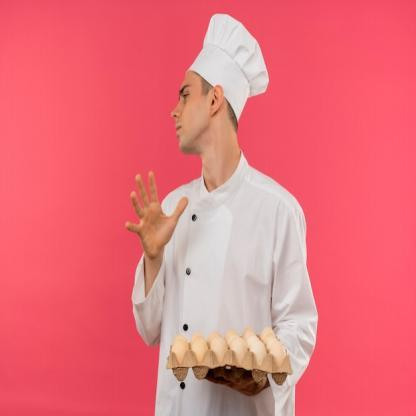stop: (124, 167, 189, 258)
